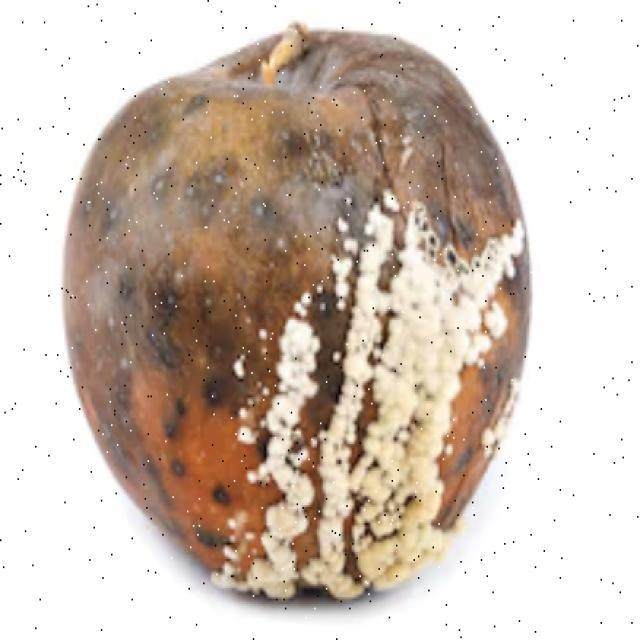Rotten: (76, 31, 516, 602)
